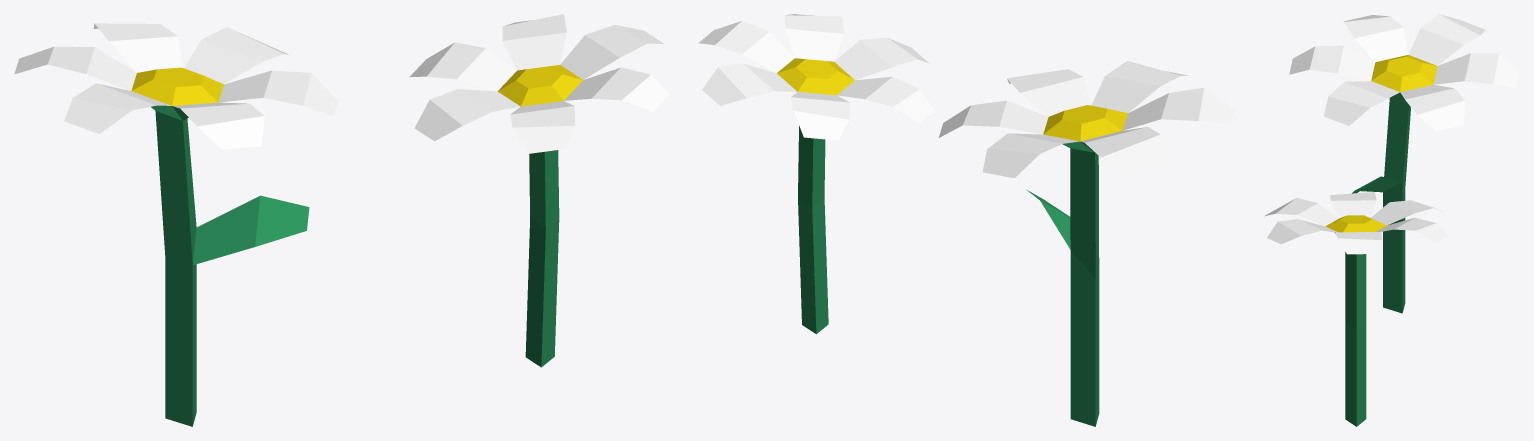
The model's file is another-flower.glb.
The picture shows the model from 3 angles, left to right: view 1: azimuth 30°, elevation 25°; view 2: azimuth 150°, elevation 25°; view 3: azimuth 270°, elevation 25°; orthographic projection. The views are drawn at different scales.
Parts seen in each view (by area): view 1: Circle.006_Circle.007, Circle.001; view 2: Circle.006_Circle.007, Circle.001; view 3: Circle.006_Circle.007, Circle.001.
Boxes of the visible parts, bbox=[...] form: Circle.006_Circle.007: bbox=[14, 23, 338, 426]; Circle.001: bbox=[409, 14, 669, 367]; Circle.006_Circle.007: bbox=[938, 61, 1234, 426]; Circle.001: bbox=[698, 14, 934, 334]; Circle.006_Circle.007: bbox=[1289, 14, 1519, 313]; Circle.001: bbox=[1264, 192, 1448, 426].
Size of the model in its own units: 56.54 by 33.38 by 30.19.
Materials: 1 (1 with a texture image).
